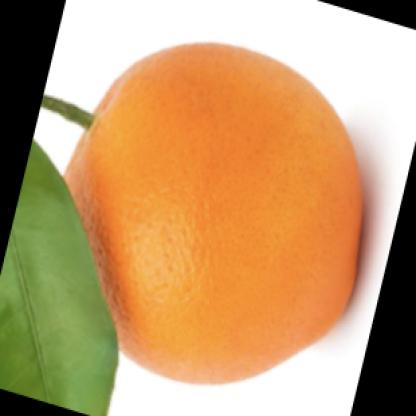fresh: (53, 43, 364, 385)
